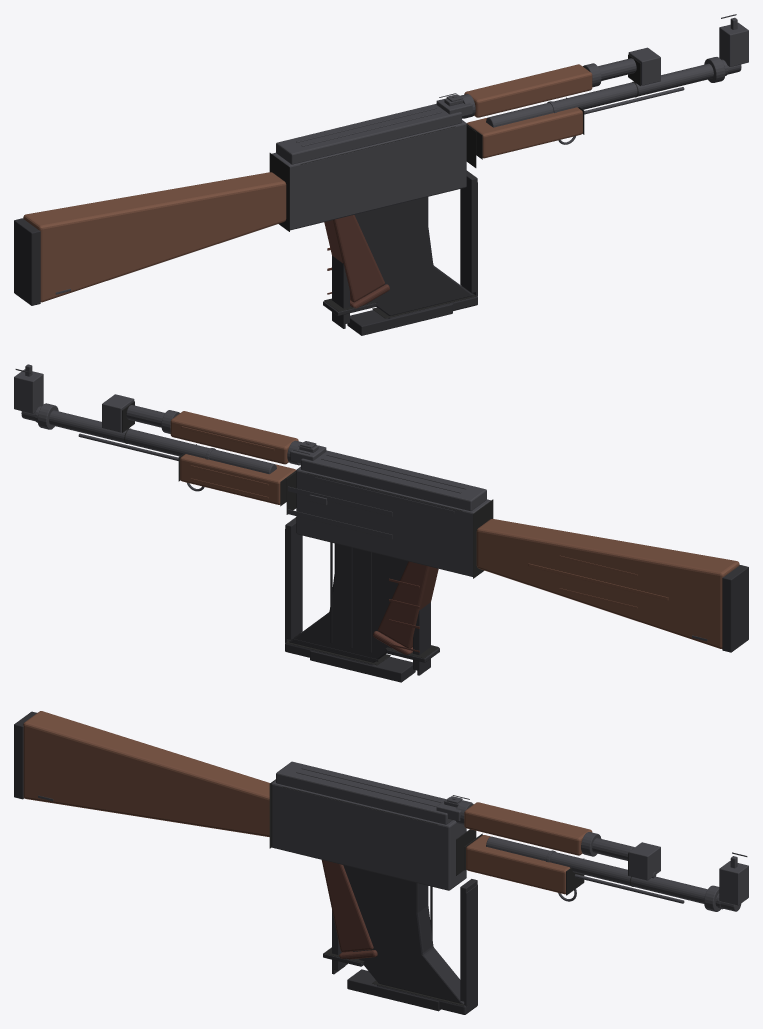
File: AK47_exterior_prop_visual.glb
The picture shows the model from 3 angles, top to bottom: view 1: azimuth 30°, elevation 25°; view 2: azimuth 150°, elevation 25°; view 3: azimuth 330°, elevation 25°; orthographic projection.
Parts seen in each view (by area): view 1: AK_stock_main, AK_receiver_main, AK_magazine_main, AK_dustcover_main, AK_handguard_upper_main, AK_barrel_outer_closed, AK_handguard_lower_main, AK_grip_main, AK_stock_buttplate_visual, AK_magazine_front_spine_visual, AK_magazine_baseplate_visual, AK_front_sight_block_visual (+4 smaller); view 2: AK_stock_main, AK_receiver_main, AK_magazine_main, AK_dustcover_main, AK_handguard_upper_main, AK_barrel_outer_closed, AK_grip_main, AK_handguard_lower_main, AK_stock_buttplate_visual, AK_magazine_front_spine_visual, AK_magazine_baseplate_visual, AK_front_sight_block_visual (+7 smaller); view 3: AK_stock_main, AK_receiver_main, AK_magazine_main, AK_dustcover_main, AK_handguard_upper_main, AK_barrel_outer_closed, AK_handguard_lower_main, AK_grip_main, AK_ridge_magazine_front_001, AK_magazine_baseplate_visual, AK_front_sight_block_visual, AK_gas_block_visual (+3 smaller).
Boxes of the visible parts, x1,y1,x2,y2 form: AK_stock_main: (23,172,286,302); AK_receiver_main: (272,120,466,230); AK_magazine_main: (354,197,477,318); AK_dustcover_main: (276,103,461,164); AK_handguard_upper_main: (464,64,592,117); AK_barrel_outer_closed: (486,63,741,127); AK_handguard_lower_main: (466,107,582,158); AK_grip_main: (324,215,389,308); AK_stock_buttplate_visual: (14,218,40,305); AK_magazine_front_spine_visual: (460,170,477,292); AK_magazine_baseplate_visual: (347,304,452,335); AK_front_sight_block_visual: (719,17,748,66); AK_stock_main: (476,519,739,648); AK_receiver_main: (296,466,490,576); AK_magazine_main: (285,543,408,665); AK_dustcover_main: (301,450,486,510); AK_handguard_upper_main: (170,411,298,464); AK_barrel_outer_closed: (21,410,276,474); AK_grip_main: (373,561,438,654); AK_handguard_lower_main: (180,454,295,504); AK_stock_buttplate_visual: (722,565,748,652); AK_magazine_front_spine_visual: (285,517,302,639); AK_magazine_baseplate_visual: (310,650,415,682); AK_front_sight_block_visual: (14,364,43,413); AK_stock_main: (23,711,269,836); AK_receiver_main: (271,780,466,890); AK_magazine_main: (343,865,477,1014); AK_dustcover_main: (276,761,452,824); AK_handguard_upper_main: (464,802,592,855); AK_barrel_outer_closed: (486,836,741,911); AK_handguard_lower_main: (466,835,569,894); AK_grip_main: (321,860,377,959); AK_ridge_magazine_front_001: (464,884,477,1006); AK_magazine_baseplate_visual: (347,969,440,1011); AK_front_sight_block_visual: (719,856,748,905); AK_gas_block_visual: (628,842,660,880).
Size of the model in its own units: 0.9285 by 0.27 by 0.045.
